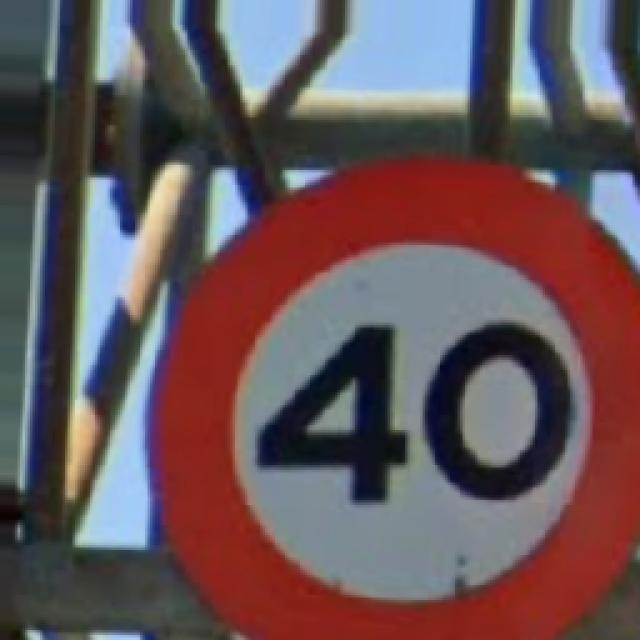Speed Limit -40-: (155, 160, 638, 638)
